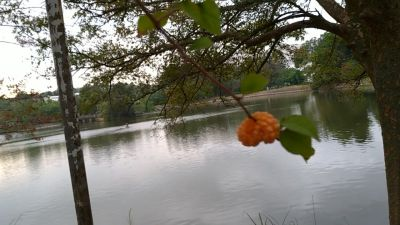eggs: (234, 110, 279, 148)
